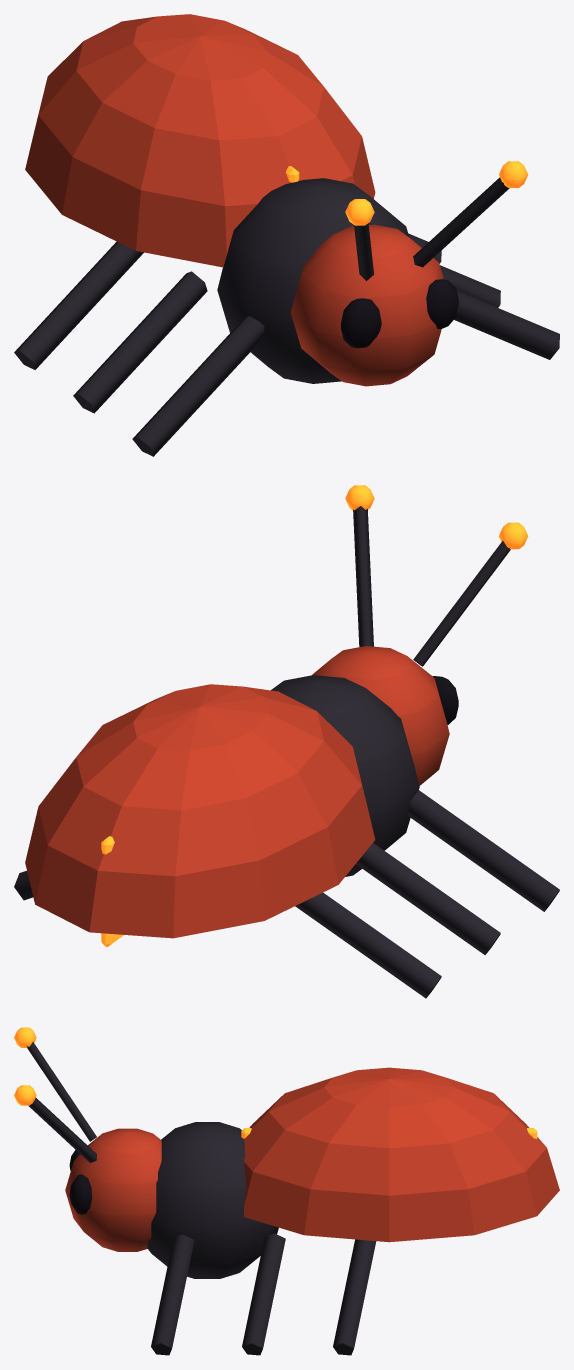
Rendered from monster_lava_ant.glb.
3 renders of one model, top to bottom at view 1: azimuth 30°, elevation 25°; view 2: azimuth 150°, elevation 25°; view 3: azimuth 270°, elevation 25°, orthographic. The views are drawn at different scales.
Visible parts, largest first — view 1: body_t0_palette, body_t0_fire; view 2: body_t0_palette, body_t0_fire; view 3: body_t0_palette, body_t0_fire.
Boxes of the visible parts, box(x1,y1,x2,y2) form: body_t0_palette: box(14, 14, 559, 456); body_t0_fire: box(285, 161, 528, 225); body_t0_palette: box(14, 506, 559, 998); body_t0_fire: box(101, 485, 528, 946); body_t0_palette: box(27, 1042, 559, 1355); body_t0_fire: box(14, 1027, 537, 1138).
Bounding box in the file's own units: 0.3299 × 0.217 × 0.48.
